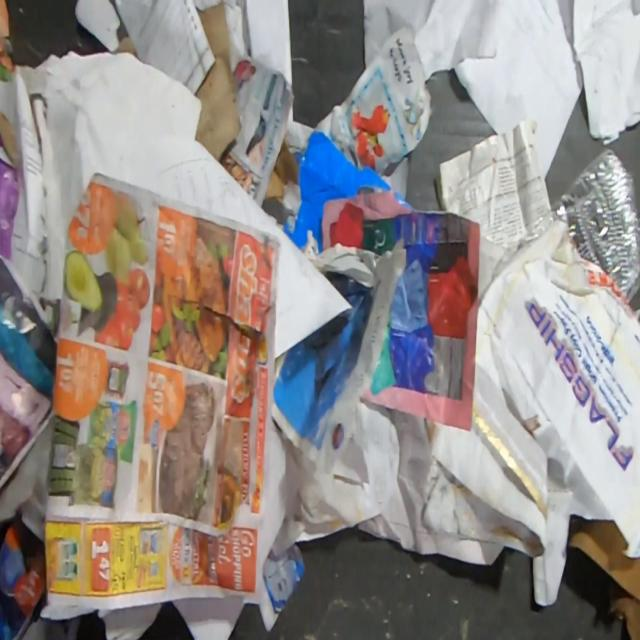cardboard: (282, 130, 393, 255), (565, 518, 639, 640), (0, 112, 24, 263), (262, 139, 298, 201)
rigid_plastic: (476, 146, 640, 320)
